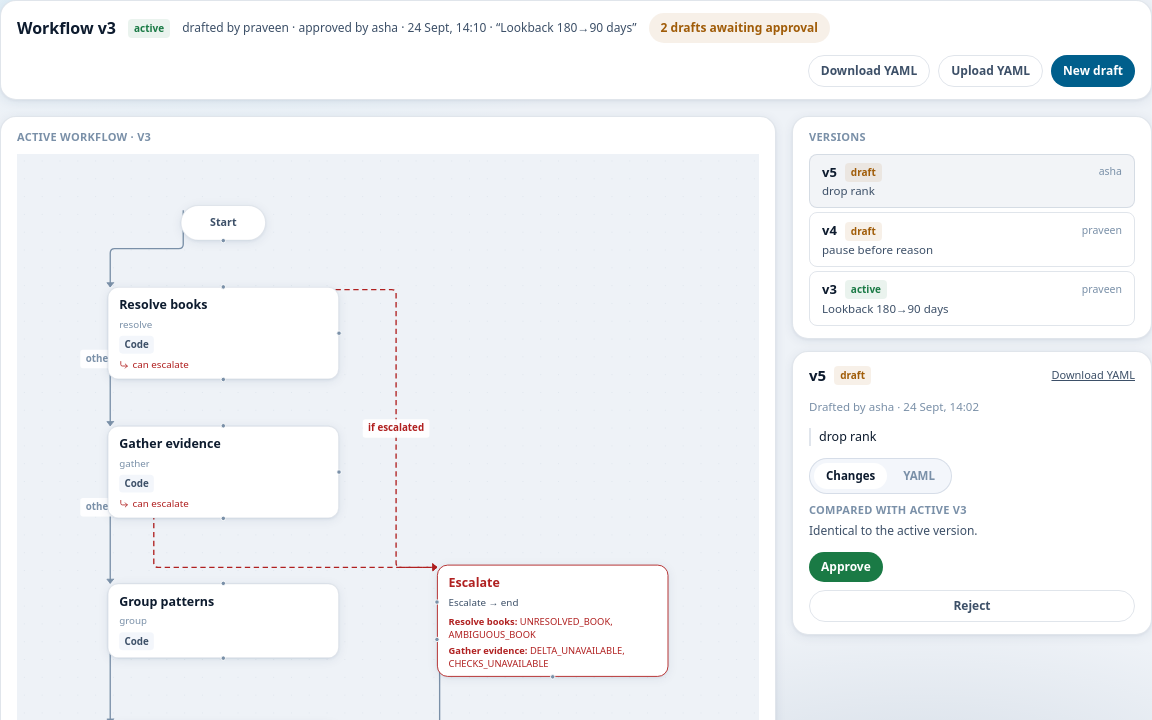
Scenario: WorkflowView › keeps unsaved edits and warns when the active version moves on while an editor stays open
Click the button "New draft" at (1093, 71), box [1051,55,1135,87]
(page scrolled)
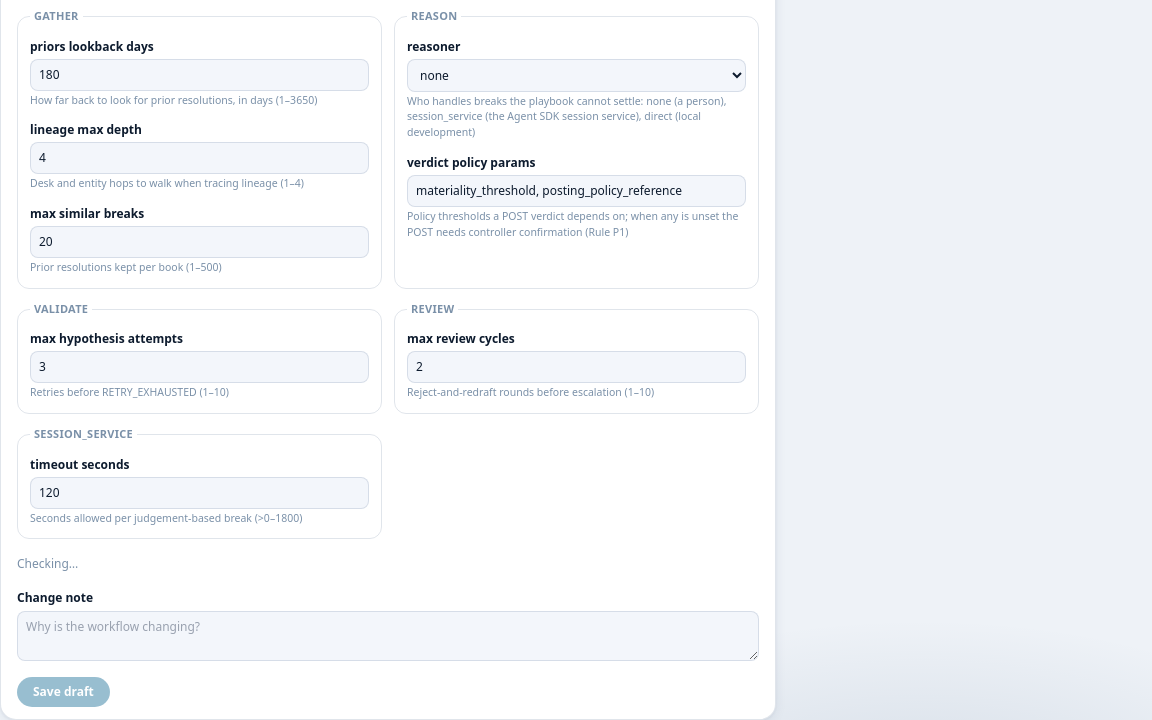
Type "still drafting" into the text box labelled "Change note" at (388, 636), box [17,611,759,661]
(page scrolled)
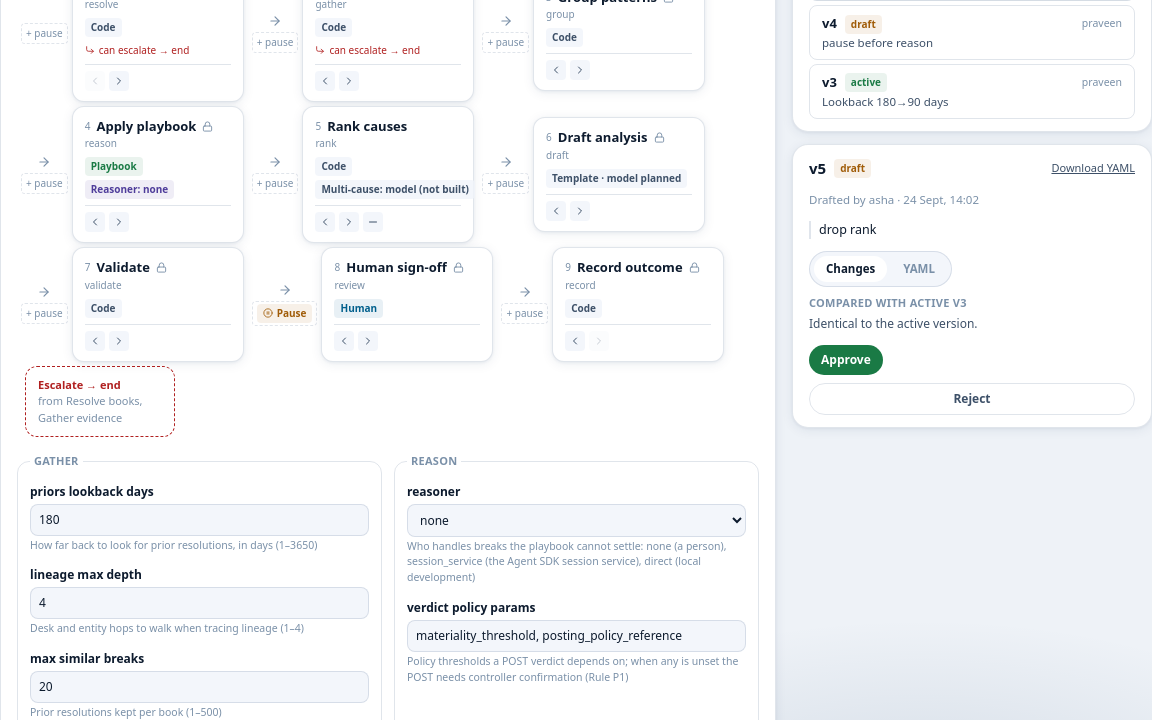
Click the button "Approve" at (846, 360), box [809,345,883,375]
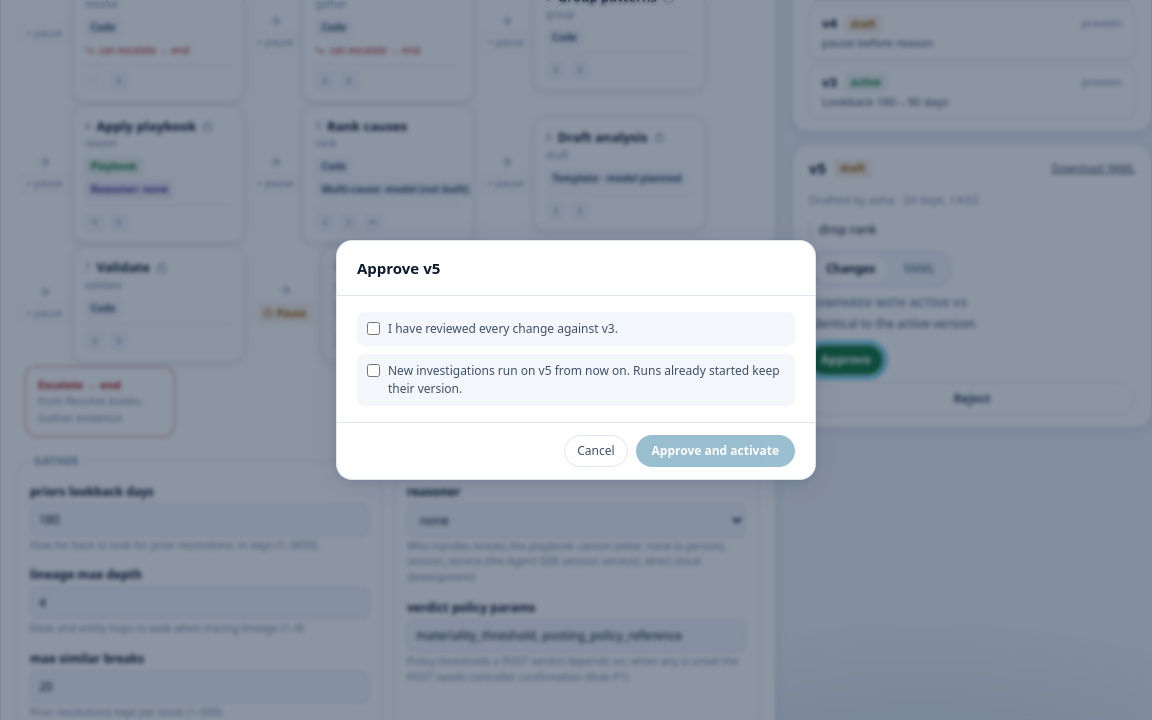
Click the checkbox labelled "I have reviewed every change against v3." at (374, 329), box [367,322,380,335]
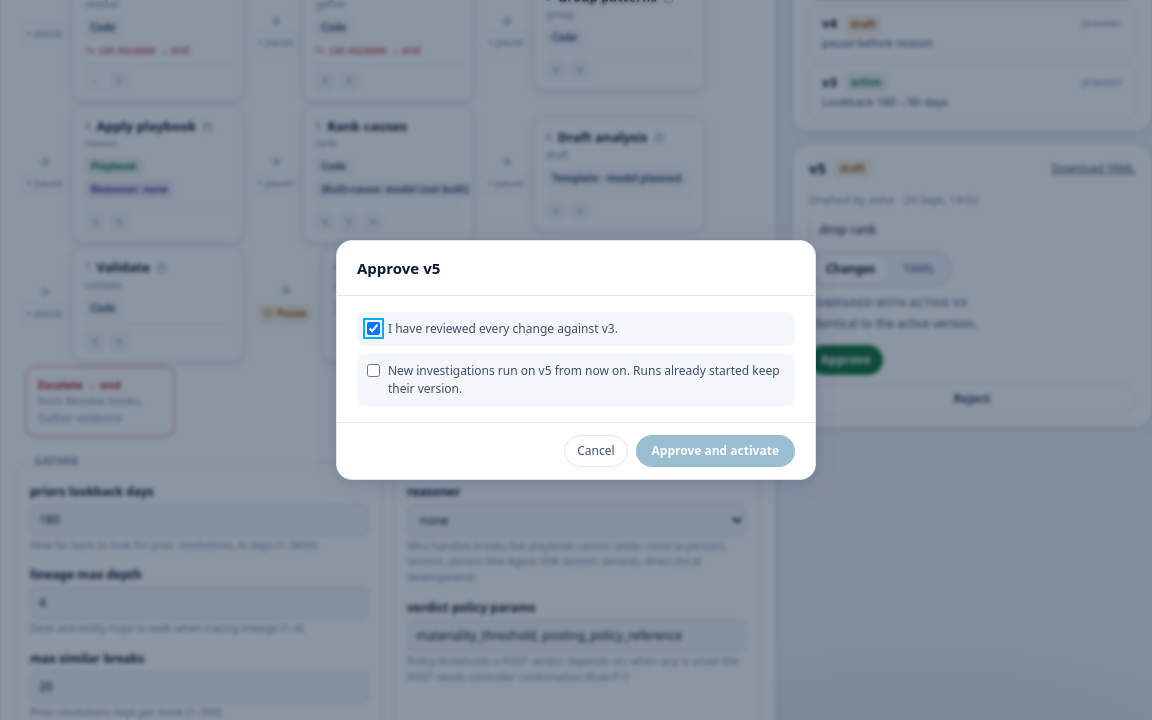
Click the 2nd checkbox at (374, 371), box [367,364,380,377]
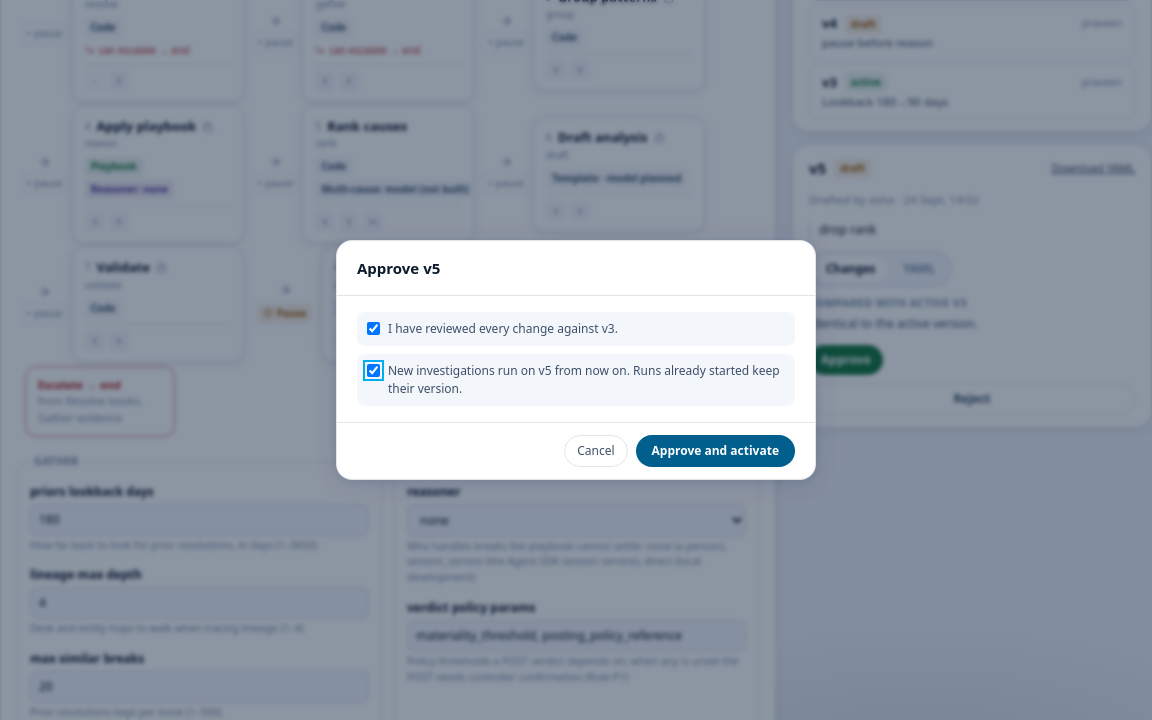
Click the button "Approve and activate" at (715, 451), box [636,435,795,467]
(page scrolled)
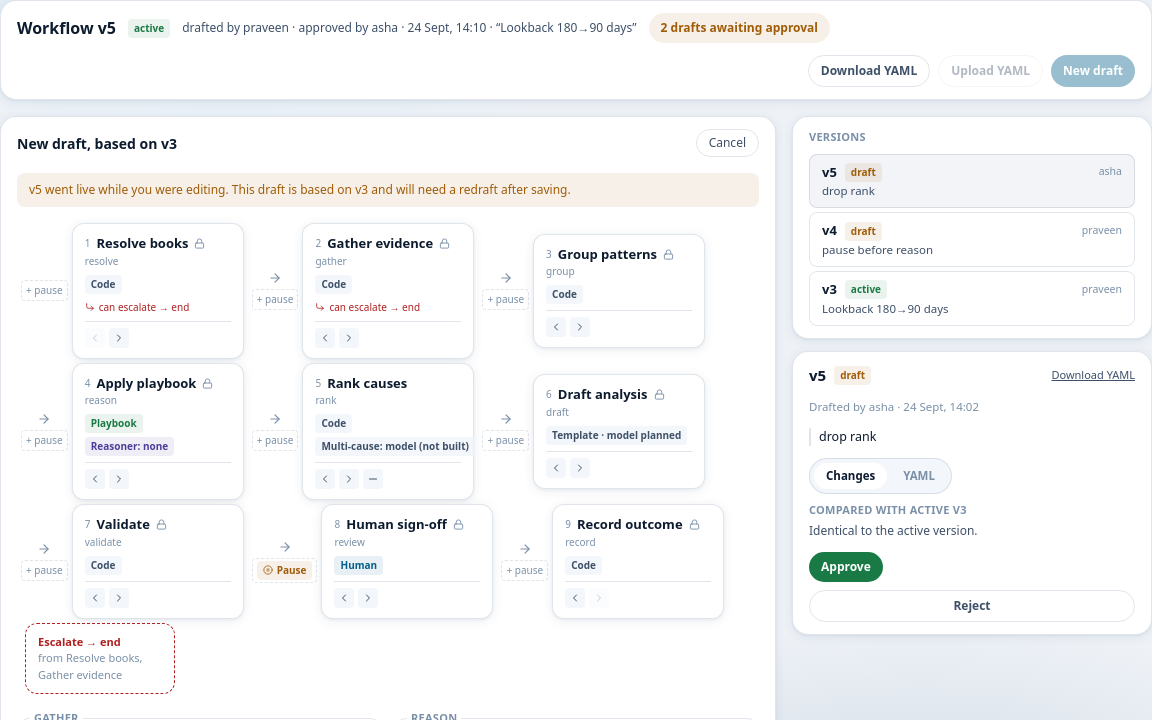
expect the dialog is gone: met
expect the text "went live while you were editing" is shown: met, box [42,181,361,198]
